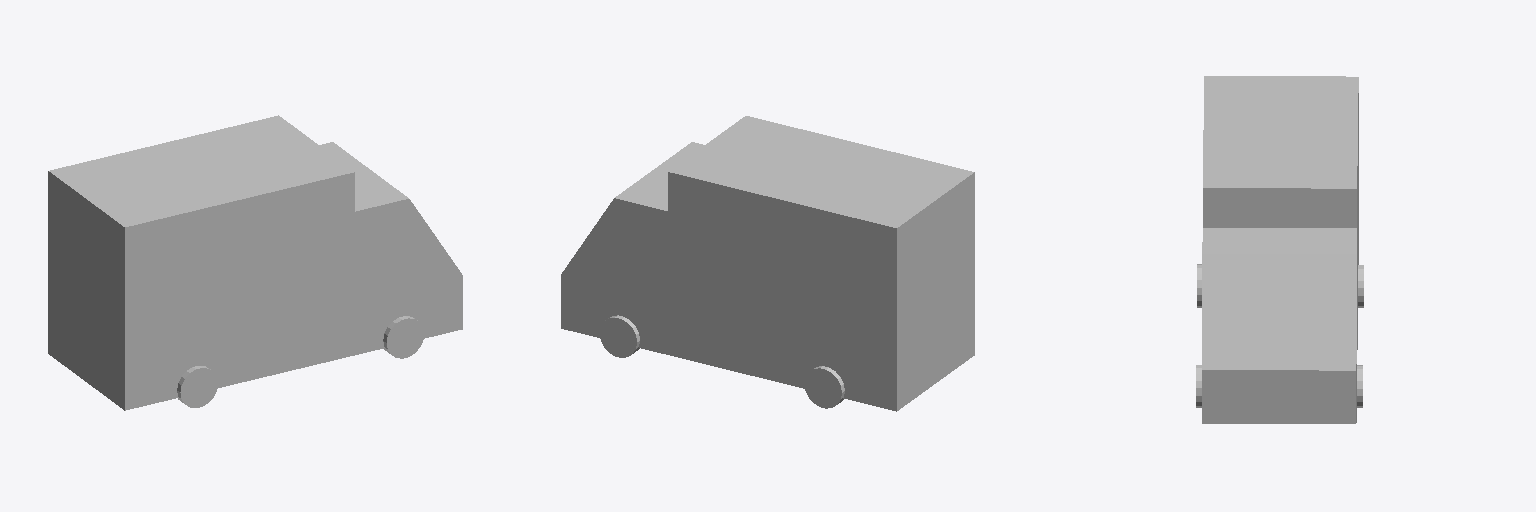
File: car_7.obj
3 renders of one model, left to right at view 1: azimuth 30°, elevation 25°; view 2: azimuth 150°, elevation 25°; view 3: azimuth 270°, elevation 25°, orthographic.
Visible parts, largest first — view 1: Car_07; view 2: Car_07; view 3: Car_07.
Boxes of the visible parts, <box> form: Car_07: <box>48,115,462,410</box>; Car_07: <box>561,116,974,411</box>; Car_07: <box>1196,76,1363,423</box>.
Bounding box in the file's own units: 2.81 × 1.55 × 1.22.